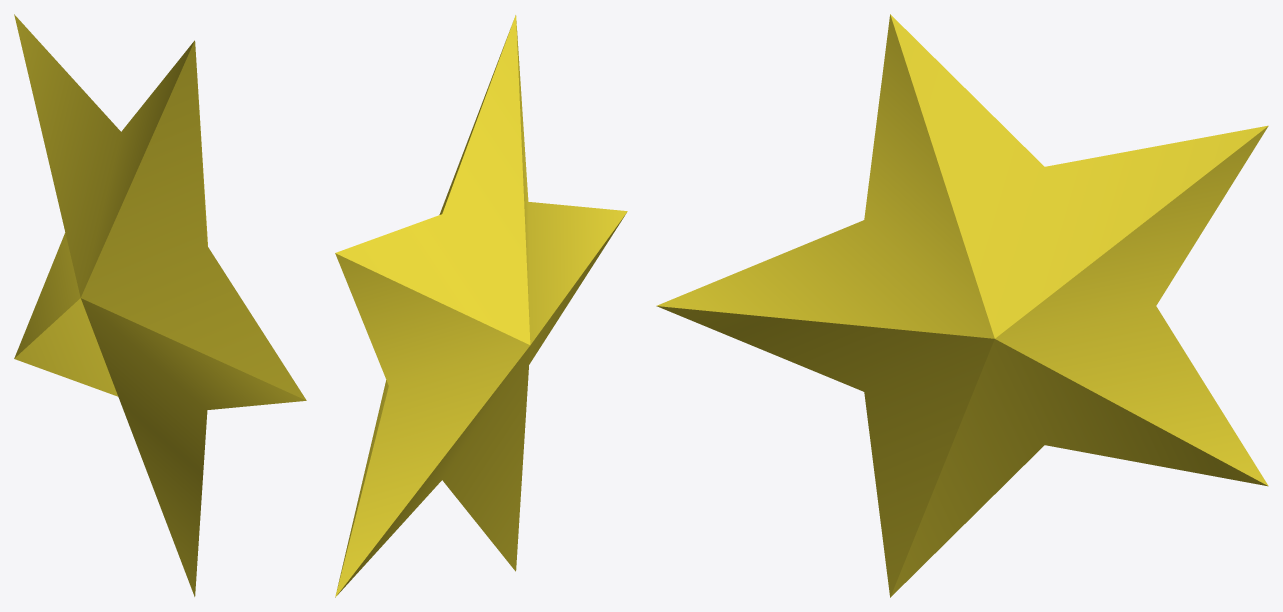
The model's file is Star.glb.
3 renders of one model, left to right at view 1: azimuth 30°, elevation 25°; view 2: azimuth 150°, elevation 25°; view 3: azimuth 270°, elevation 25°, orthographic. The views are drawn at different scales.
Visible parts, largest first — view 1: pCylinder3; view 2: pCylinder3; view 3: pCylinder3.
Part boxes in pixels (x1=…): pCylinder3: x1=14, y1=14, x2=306, y2=596; pCylinder3: x1=335, y1=15, x2=627, y2=597; pCylinder3: x1=656, y1=14, x2=1268, y2=597.
Bounding box in the file's own units: 49.11 × 204 × 194.
